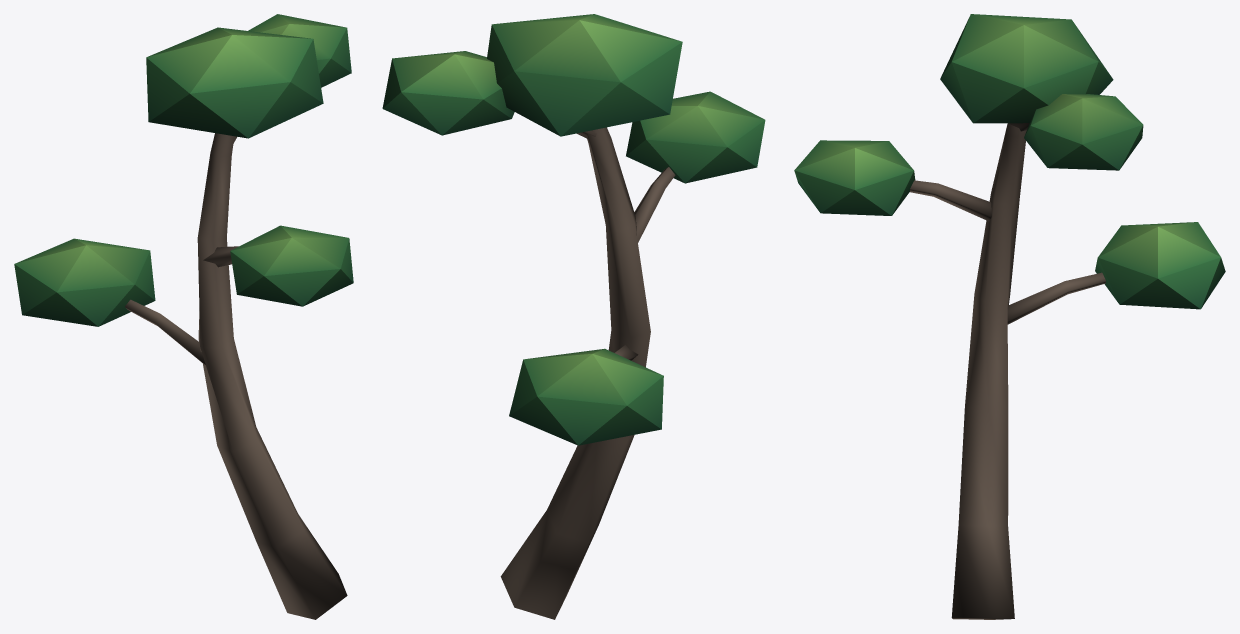
File: tree-pine-far.glb
3 views of the same model, side by side, from view 1: azimuth 30°, elevation 25°; view 2: azimuth 150°, elevation 25°; view 3: azimuth 270°, elevation 25° (orthographic). The views are drawn at different scales.
Parts seen in each view (by area): view 1: 1_leaves.009, 0_trunk.009; view 2: 1_leaves.009, 0_trunk.009; view 3: 1_leaves.009, 0_trunk.009.
Part boxes in pixels (x1,y1,x2,y2): 1_leaves.009: (14, 14, 353, 326); 0_trunk.009: (125, 133, 347, 619); 1_leaves.009: (382, 14, 765, 445); 0_trunk.009: (500, 127, 675, 619); 1_leaves.009: (794, 14, 1225, 309); 0_trunk.009: (910, 123, 1105, 619).
Bounding box in the file's own units: 3.44 × 6.6 × 4.48.
